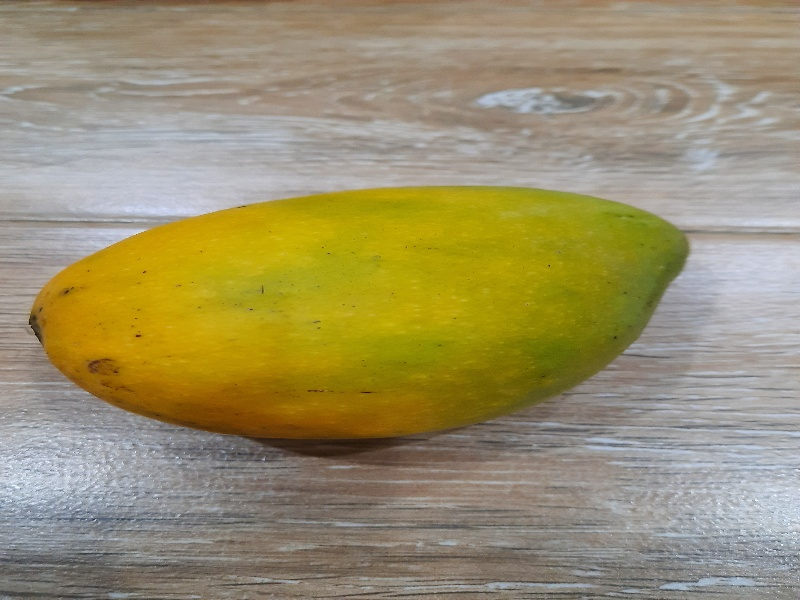fruit: (24, 185, 704, 450)
